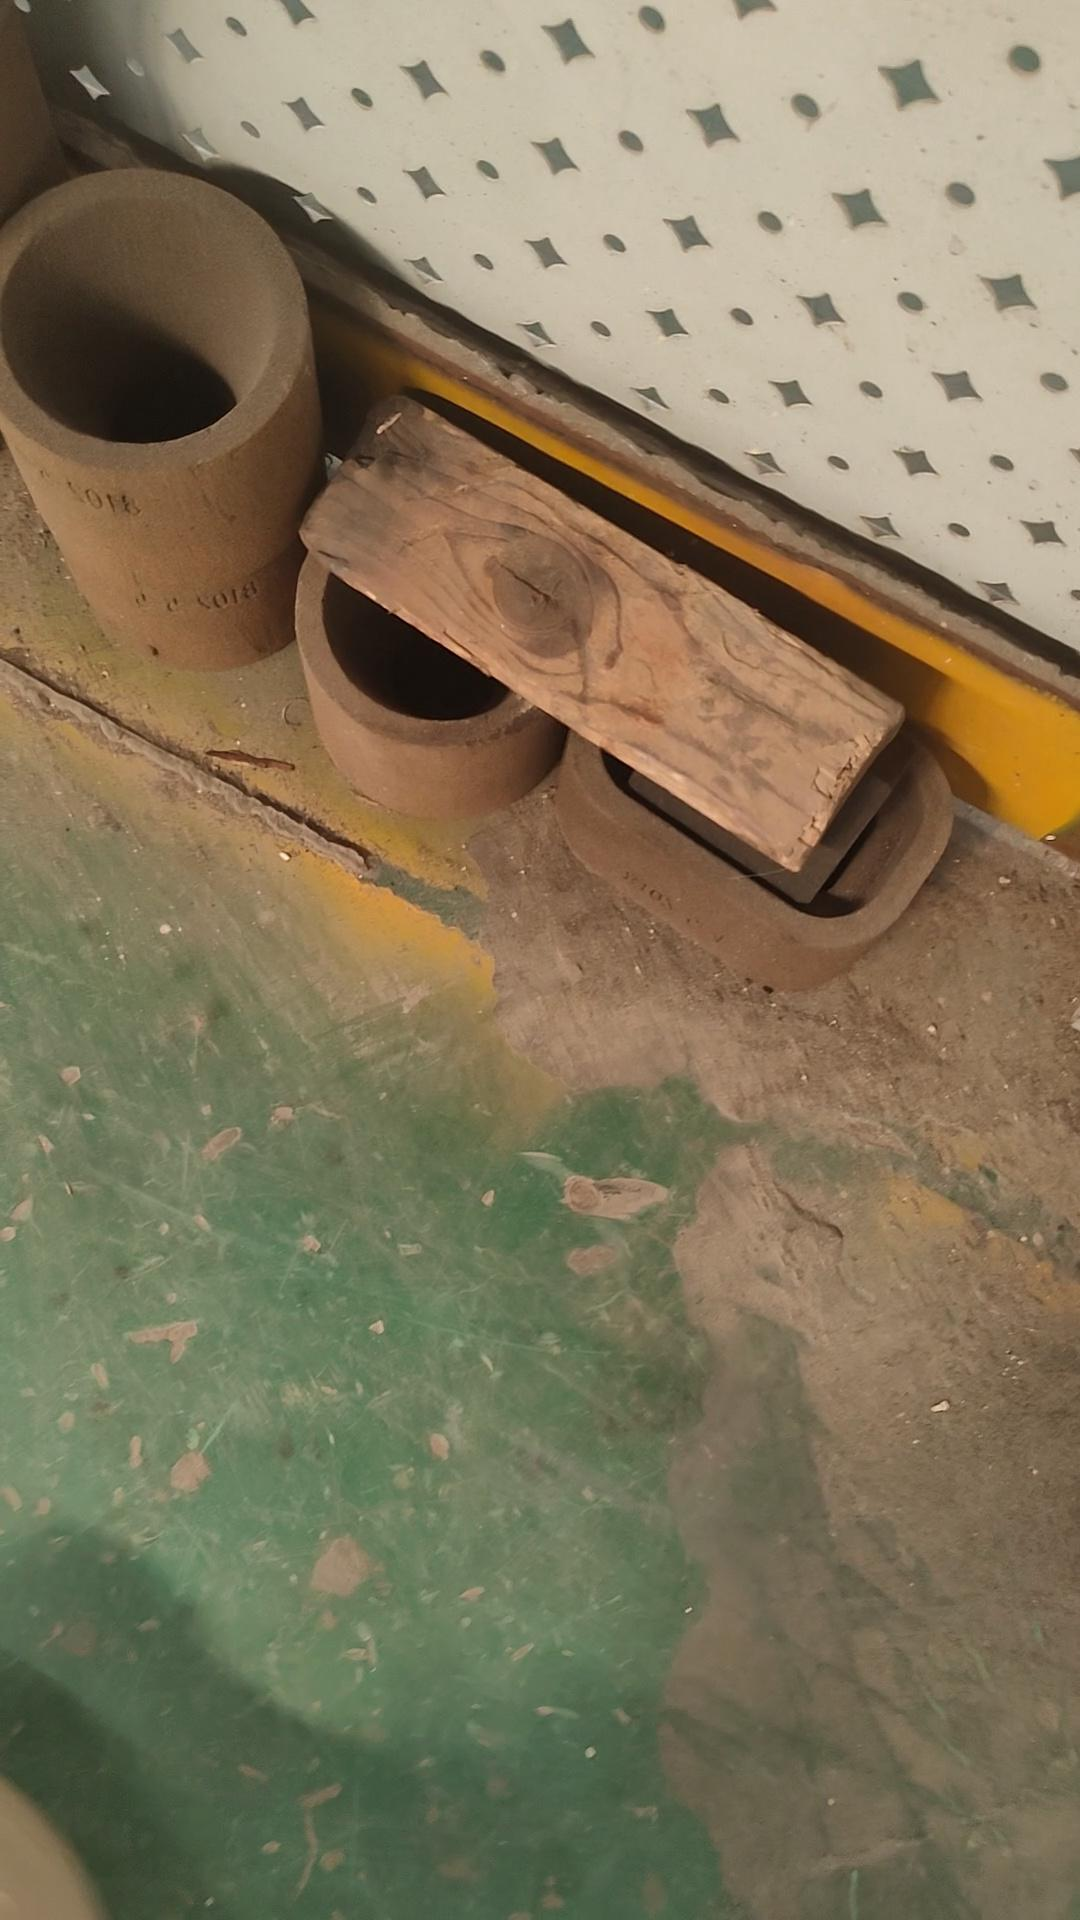pouring hole: (5, 195, 273, 446), (323, 531, 518, 723)
